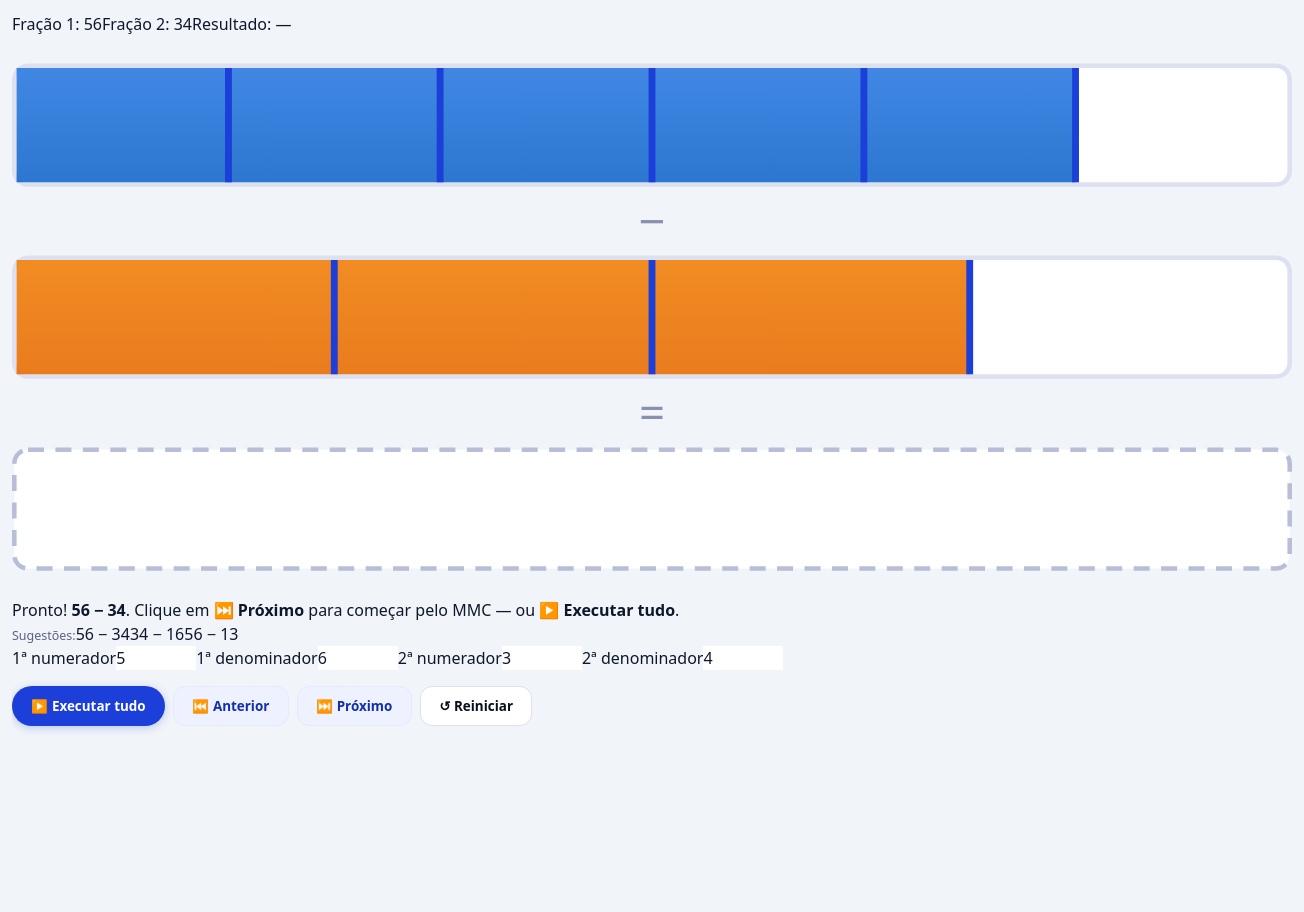
Test: SubtracaoBarrasSimulator — subtração com as 3 barras › bloqueia a exploração e avisa quando a 2ª fração seria maior que a 1ª
The width and height of the screenshot is (1304, 912).
// 1/4 − 3/4 daria negativo: o módulo trabalha com resultados não-negativos.
Replace the text in the number field labelled "1ª numerador" with "1" at (156, 658), box top-left (116, 646), bottom-right (196, 670)
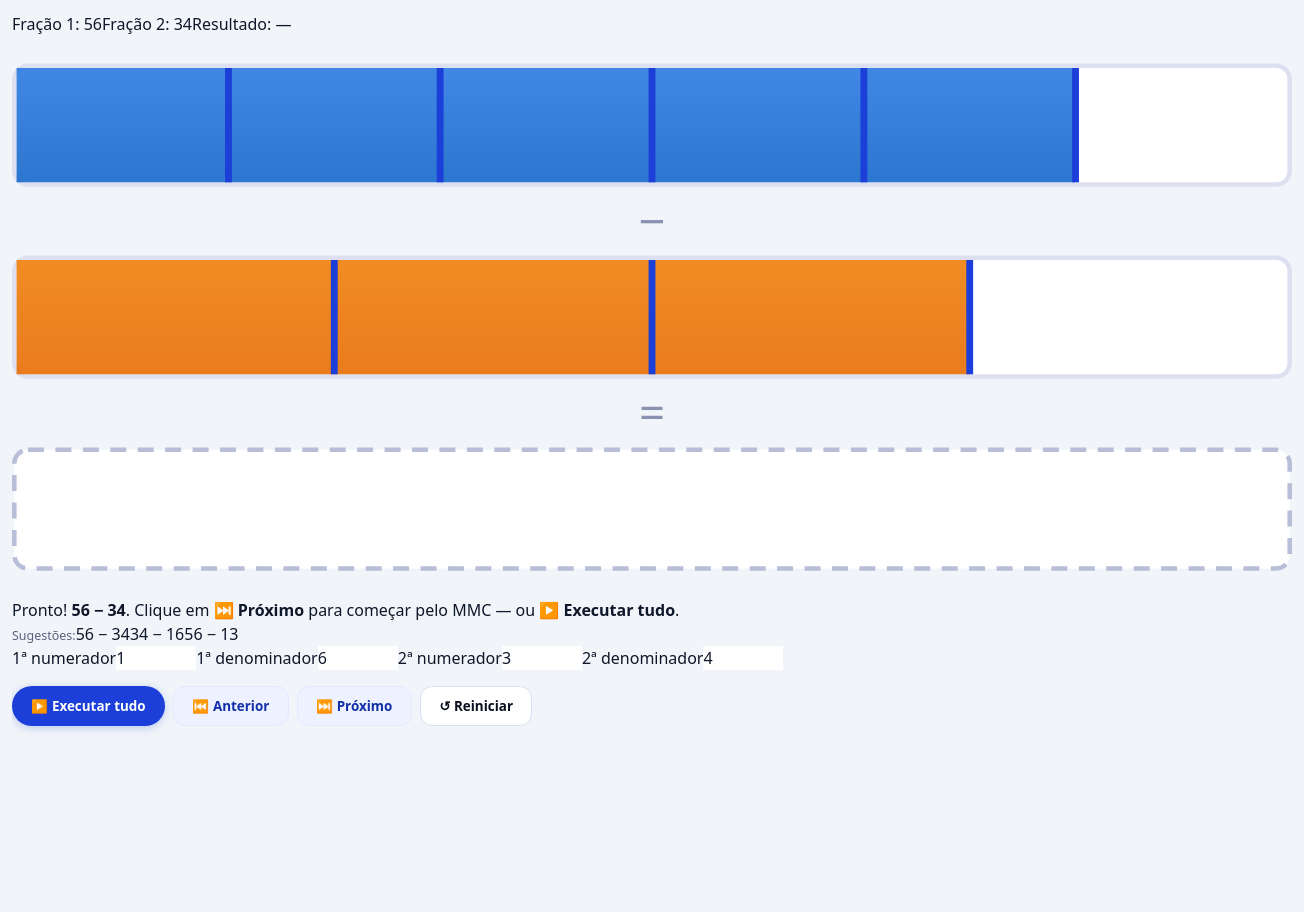
Leave the number field labelled "1ª numerador", box top-left (116, 646), bottom-right (196, 670)
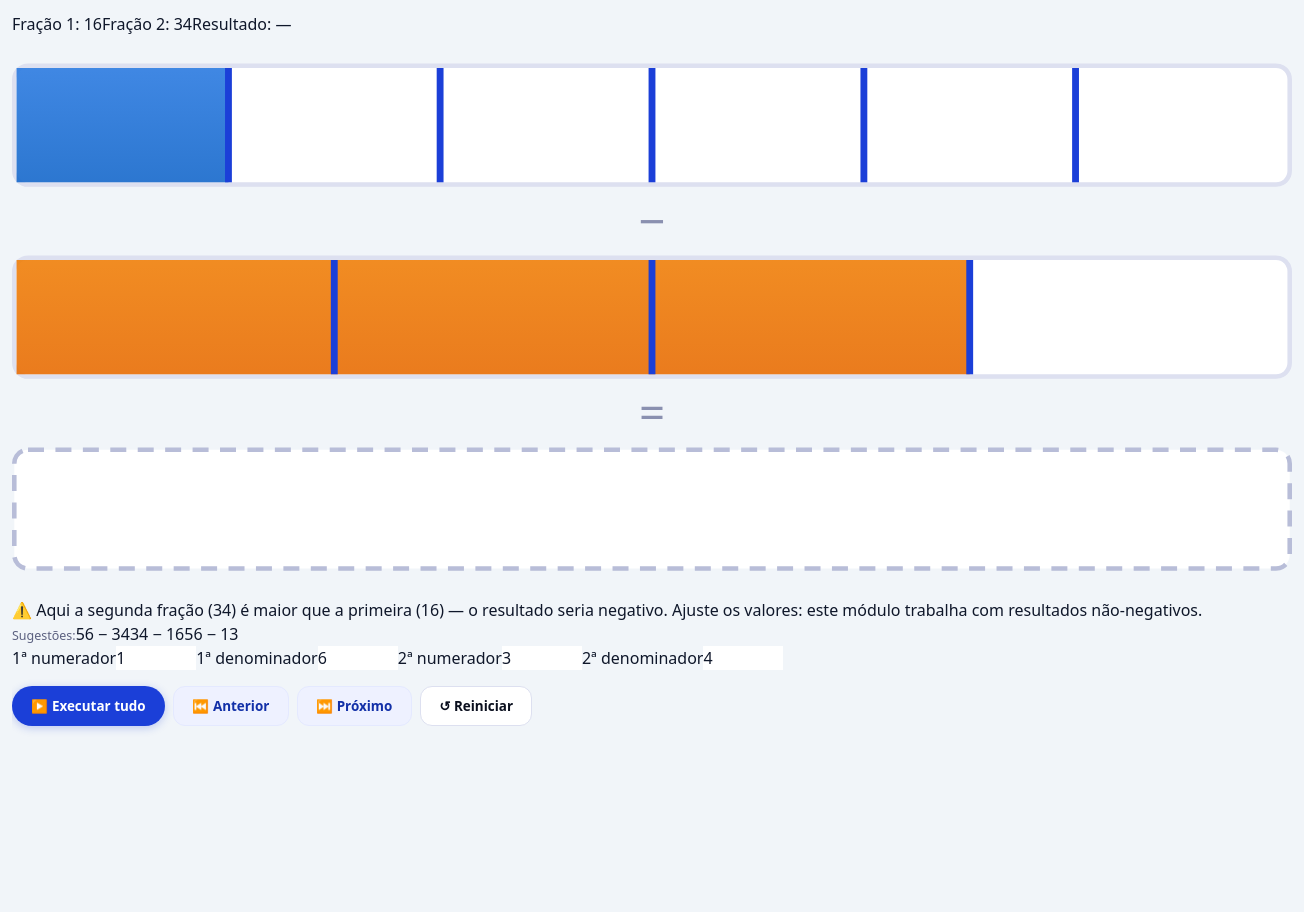
Expected: the button "⏭ Próximo" is disabled, top-left (297, 686), bottom-right (412, 726)
Now the message with class "sim-status" shows "resultado seria negativo", box top-left (439, 599), bottom-right (1202, 621)
